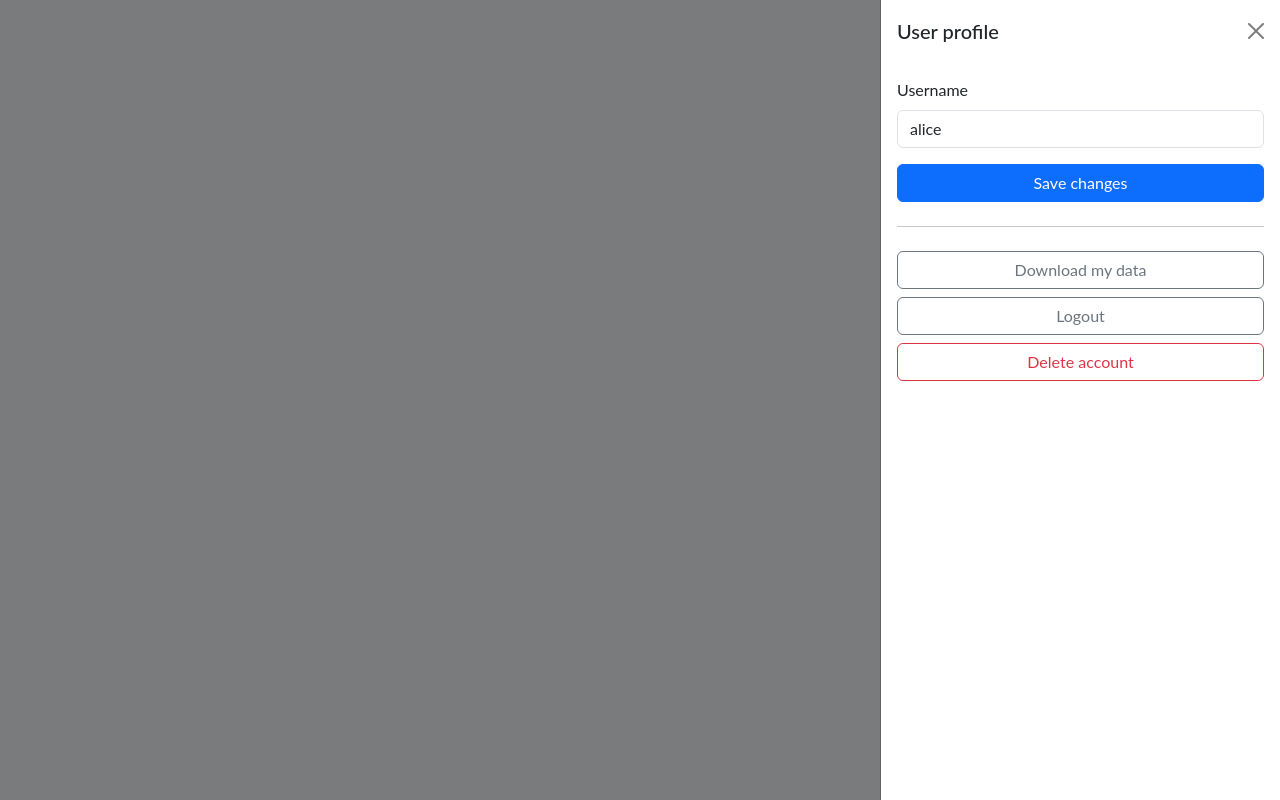
Test case: UserProfileModal › shows an error when saving fails
Expected: the field showing "alice" is shown, [897,110,1264,148]
Click the button "Save changes".
click(1080, 183)  # box [897,164,1264,202]
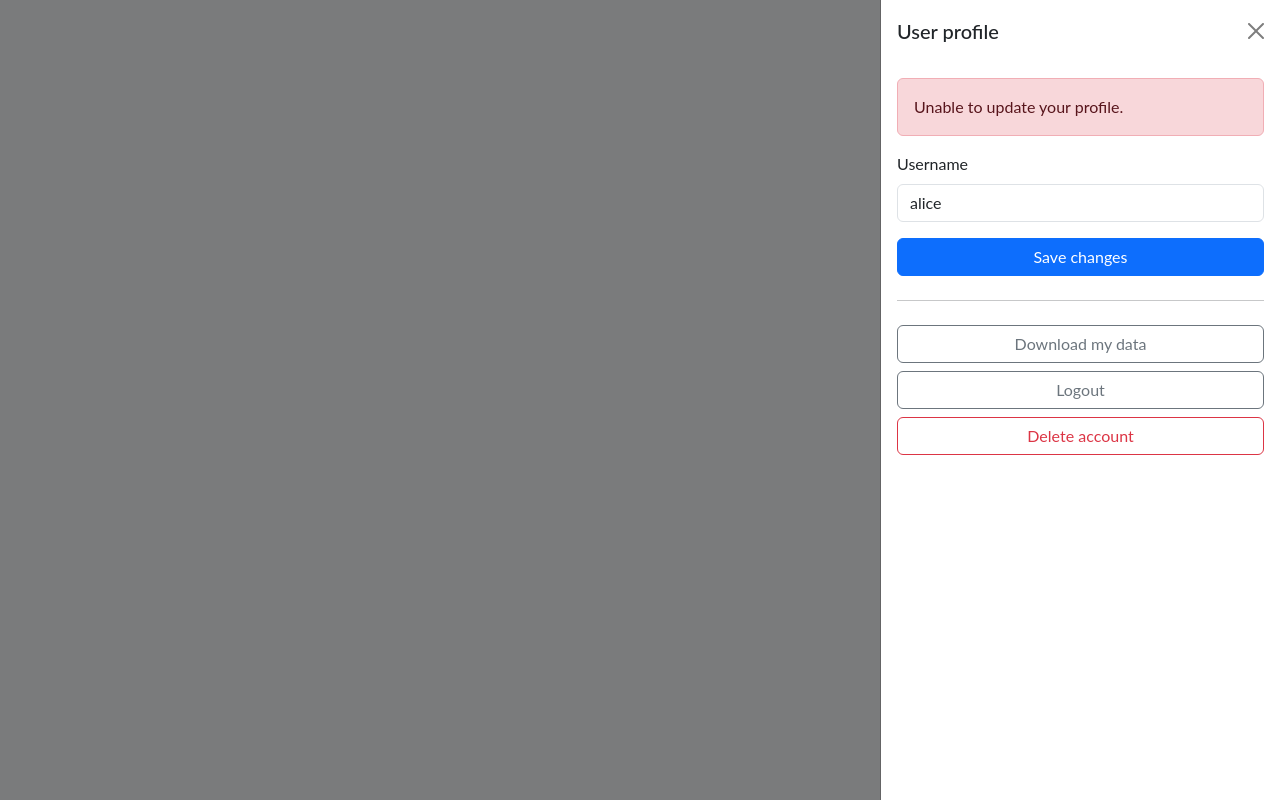
Result: the text "Unable to update your profile." is shown at [897,78,1264,136]
